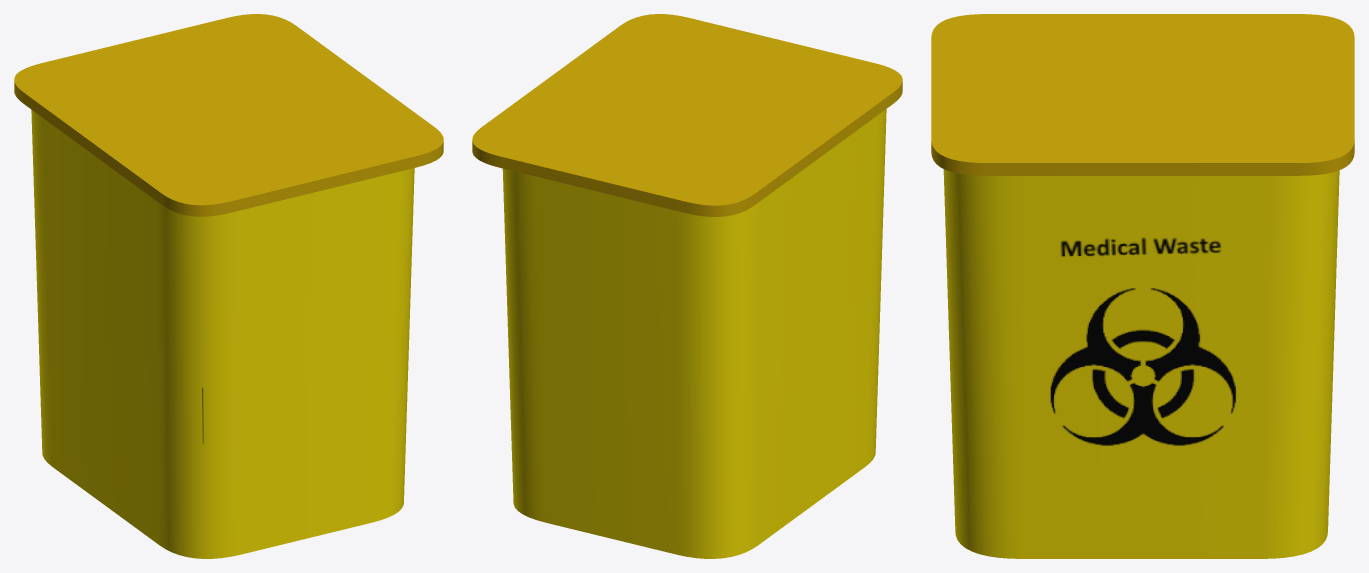
Rendered from TrashCan.FBX.
3 views of the same model, side by side, from view 1: azimuth 30°, elevation 25°; view 2: azimuth 150°, elevation 25°; view 3: azimuth 270°, elevation 25° (orthographic). The views are drawn at different scales.
Parts seen in each view (by area): view 1: Can, Lid; view 2: Can, Lid; view 3: Can, Lid.
Part boxes in pixels (x1,y1,x2,y2): Can: (31,110,414,558); Lid: (14,14,443,216); Can: (502,109,886,558); Lid: (472,14,902,216); Can: (943,169,1339,558); Lid: (931,14,1354,175).
Bounding box in the file's own units: 0.25 × 0.3207 × 0.3.
2 materials, 1 textured.
